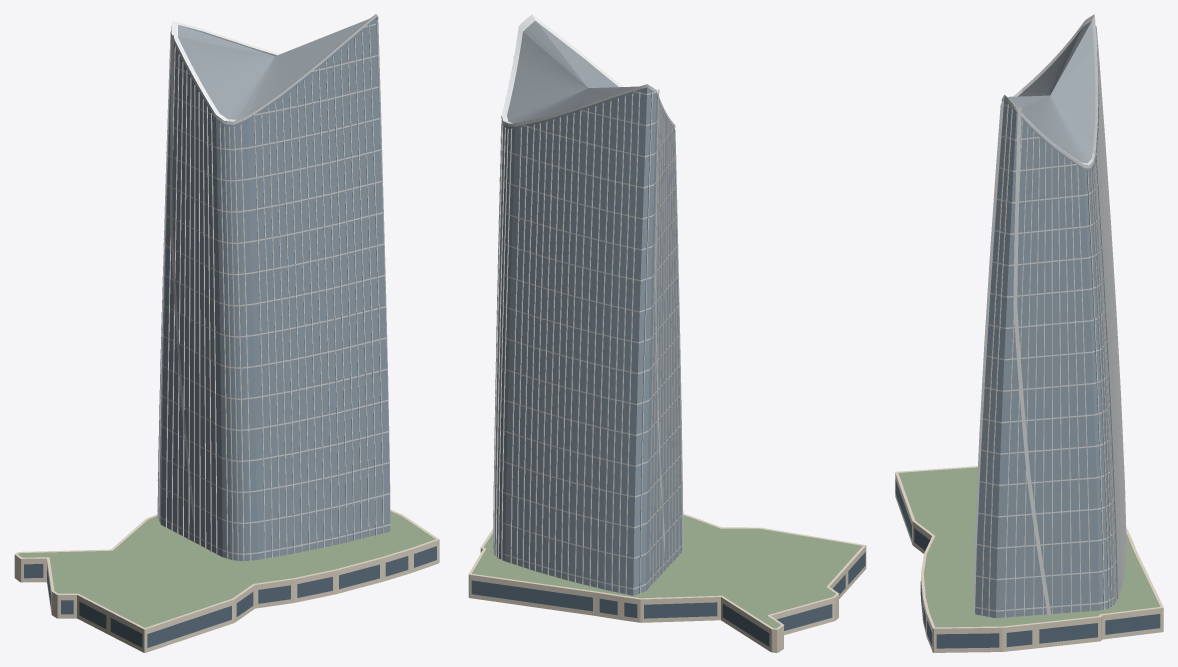
File: tokyo-toranomon-hills-mori-tower.detail.glb
The picture shows the model from 3 angles, left to right: view 1: azimuth 30°, elevation 25°; view 2: azimuth 150°, elevation 25°; view 3: azimuth 270°, elevation 25°; orthographic projection. The views are drawn at different scales.
Visible parts, largest first — view 1: Toranomon Hills Mori Tower; view 2: Toranomon Hills Mori Tower; view 3: Toranomon Hills Mori Tower.
Boxes of the visible parts, box(x1,y1,x2,y2) form: Toranomon Hills Mori Tower: box(14, 14, 439, 652); Toranomon Hills Mori Tower: box(468, 14, 866, 652); Toranomon Hills Mori Tower: box(895, 14, 1163, 652).
Size of the model in its own units: 168 by 247 by 111.
